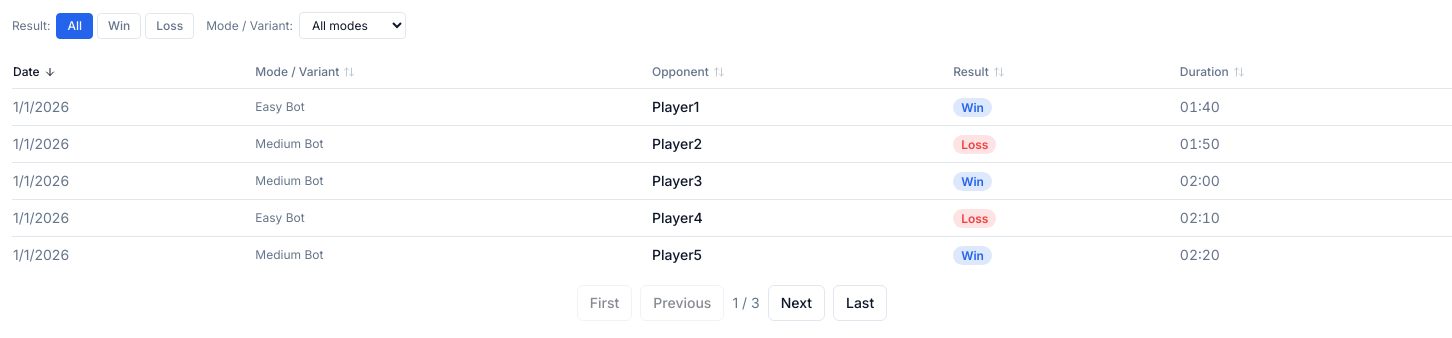
it: MatchHistoryTable — pagination › resets to page 1 when sort changes
Click the button "Next" at (796, 303), box [768, 285, 825, 321]
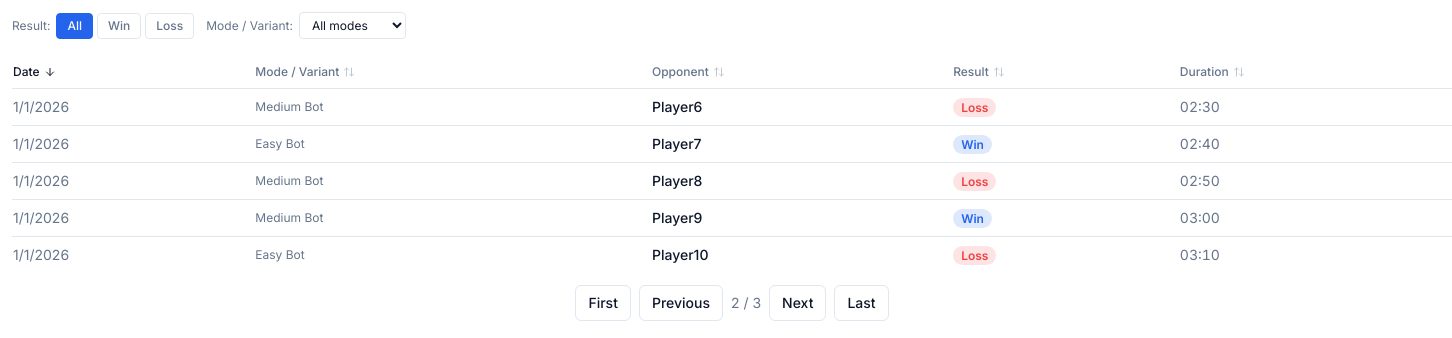
Click the button with aria-label "sort by duration" at (1212, 72), box [1180, 64, 1245, 80]
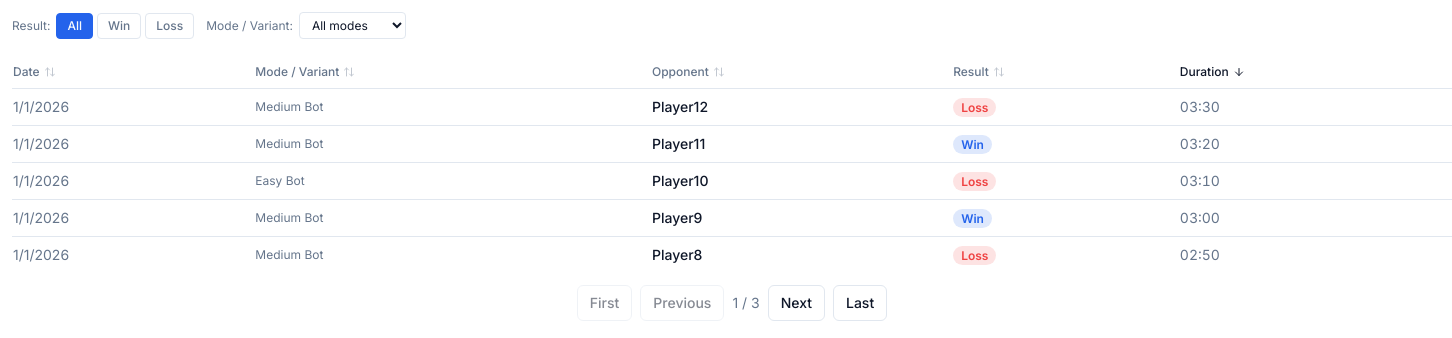
Result: the text "1 / 3" is shown at [732, 293, 760, 313]
